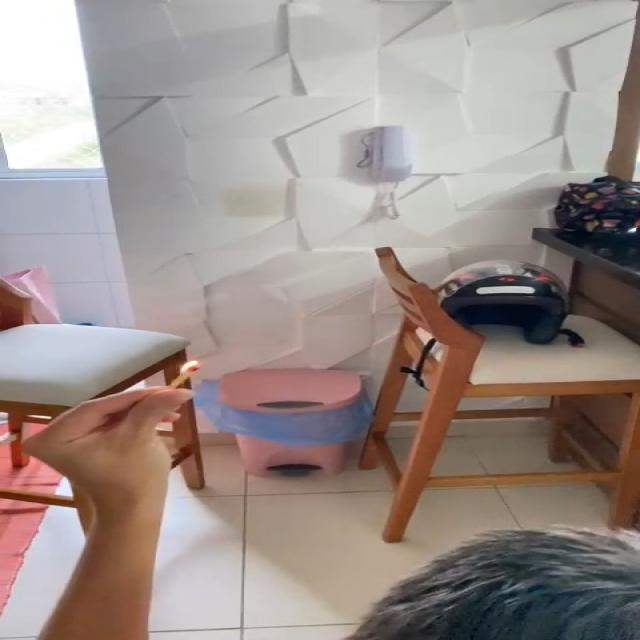fogo-ypXI: (178, 359, 200, 375)
